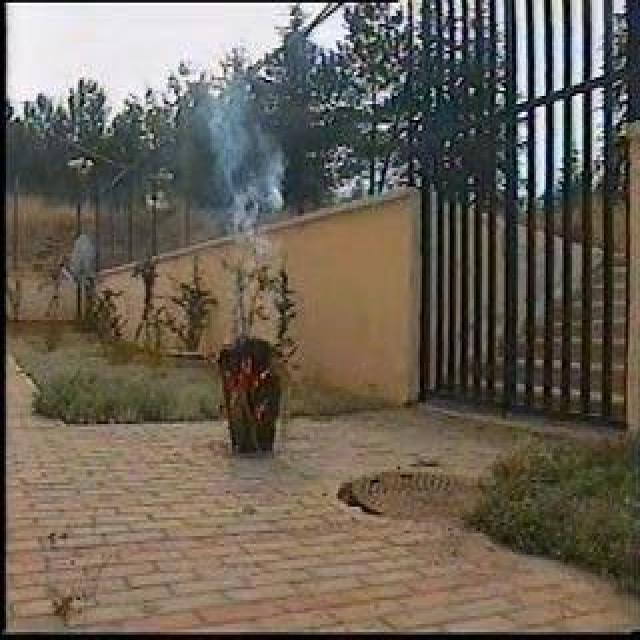smoke: (207, 46, 289, 222)
